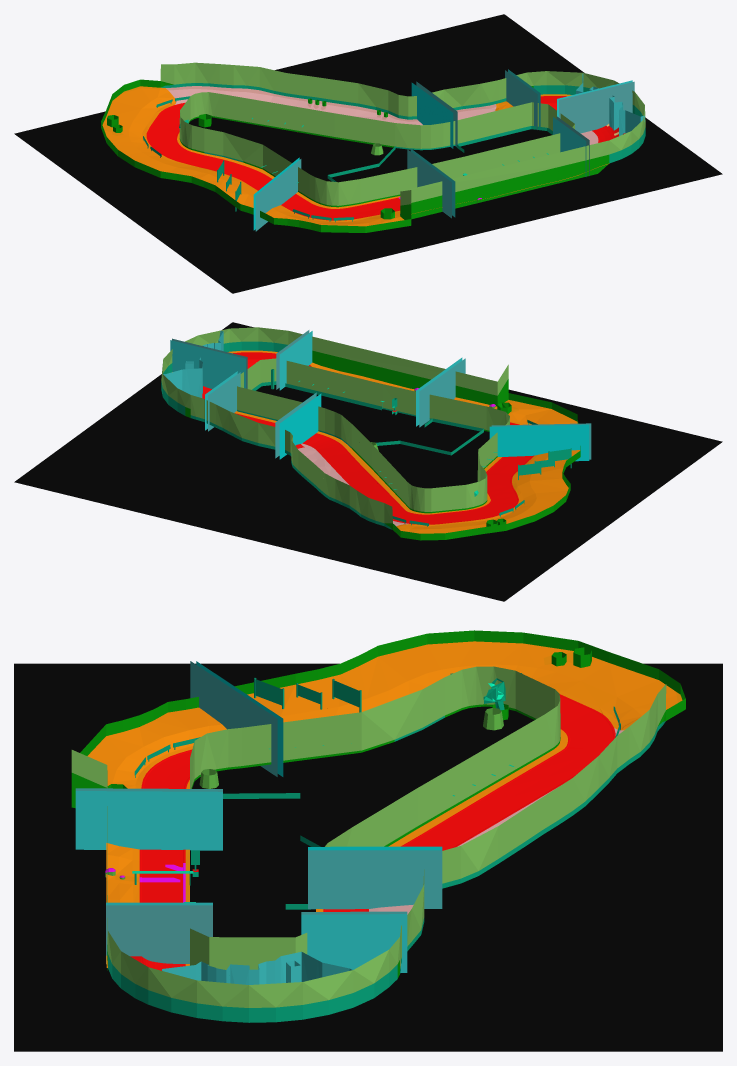
File: circuit_coll.glb
The picture shows the model from 3 angles, top to bottom: view 1: azimuth 30°, elevation 25°; view 2: azimuth 150°, elevation 25°; view 3: azimuth 270°, elevation 25°; orthographic projection. The views are drawn at different scales.
Parts seen in each view (by area): view 1: course; view 2: course; view 3: course.
Part boxes in pixels (left/top/right/bottom): course: left=14, top=14, right=722, bottom=293; course: left=14, top=322, right=722, bottom=601; course: left=14, top=630, right=722, bottom=1051.
Bounding box in the file's own units: 7600 × 751 × 5870.
